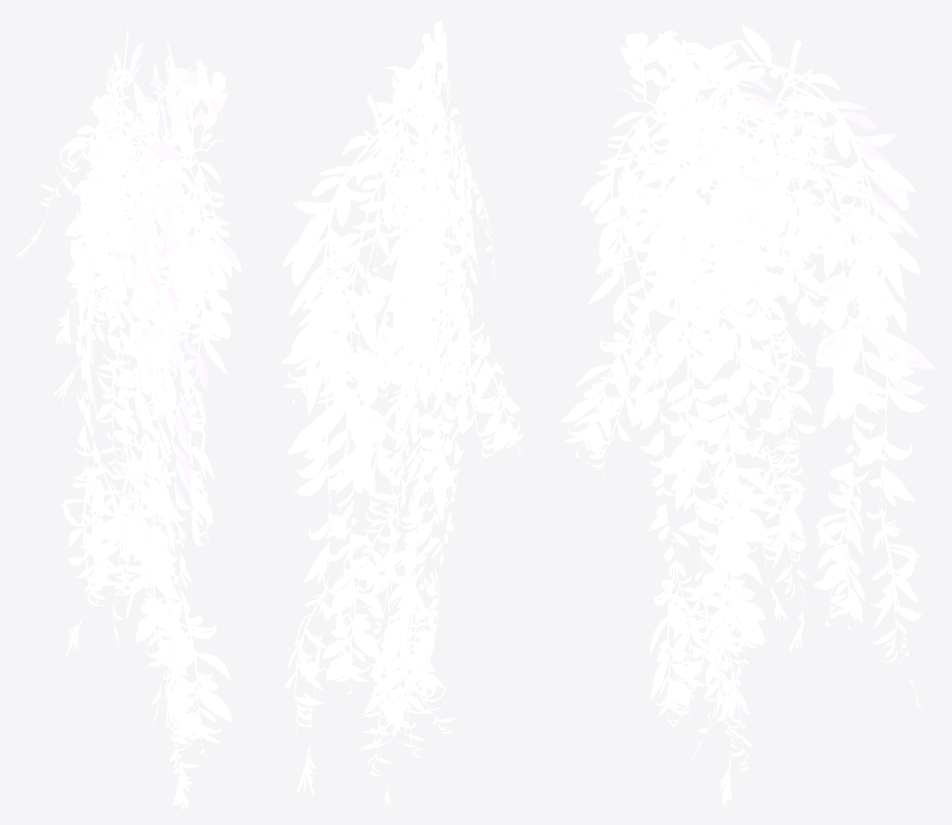
The picture shows the model from 3 angles, left to right: view 1: azimuth 30°, elevation 25°; view 2: azimuth 150°, elevation 25°; view 3: azimuth 270°, elevation 25°; orthographic projection. The views are drawn at different scales.
Visible parts, largest first — view 1: SM_FH_Climbing_A_02_LOD0; view 2: SM_FH_Climbing_A_02_LOD0; view 3: SM_FH_Climbing_A_02_LOD0.
Part boxes in pixels (x1,y1,x2,y2): SM_FH_Climbing_A_02_LOD0: (16, 28, 241, 809); SM_FH_Climbing_A_02_LOD0: (281, 19, 524, 807); SM_FH_Climbing_A_02_LOD0: (560, 24, 933, 807).
Size of the model in its own units: 0.6707 by 3.52 by 1.55.
Materials: 1 (1 with a texture image).
